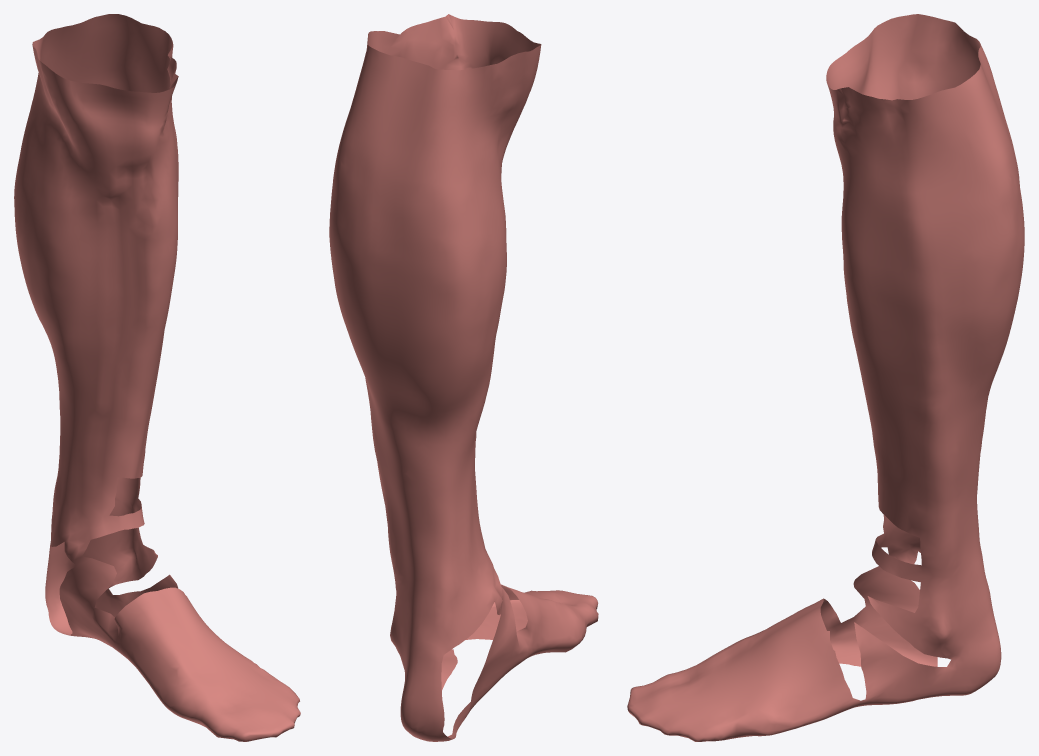
3 views of the same model, side by side, from view 1: azimuth 30°, elevation 25°; view 2: azimuth 150°, elevation 25°; view 3: azimuth 270°, elevation 25° (orthographic). The views are drawn at different scales.
Parts seen in each view (by area): view 1: ZA_44fa1052d9e0d0df; view 2: ZA_44fa1052d9e0d0df; view 3: ZA_44fa1052d9e0d0df.
Part boxes in pixels (x1=…): ZA_44fa1052d9e0d0df: x1=14, y1=14, x2=300, y2=741; ZA_44fa1052d9e0d0df: x1=329, y1=14, x2=598, y2=741; ZA_44fa1052d9e0d0df: x1=627, y1=14, x2=1024, y2=741.
Size of the model in its own units: 0.1209 by 0.442 by 0.2446.
